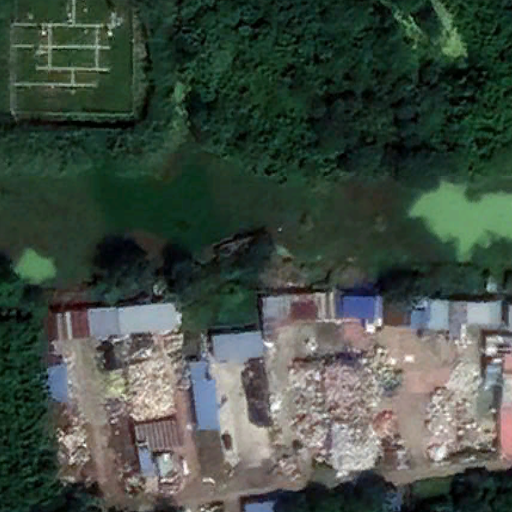msw: (292, 347, 405, 474), (428, 364, 494, 460), (109, 358, 177, 419)
